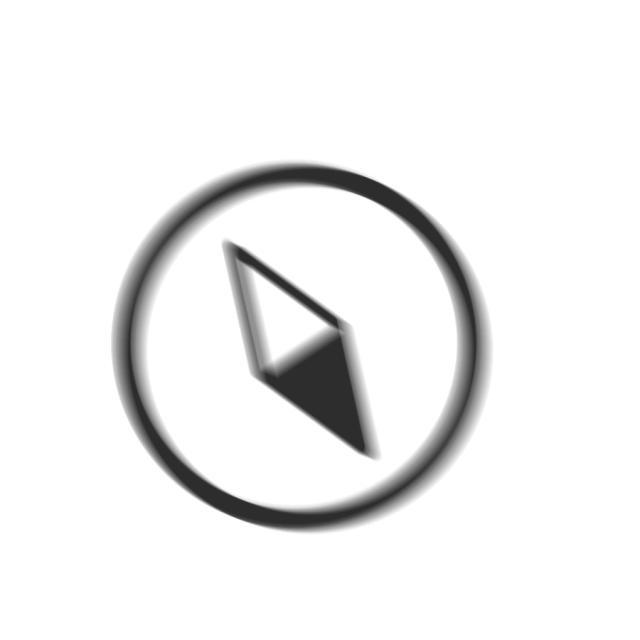compass: (106, 160, 498, 542)
